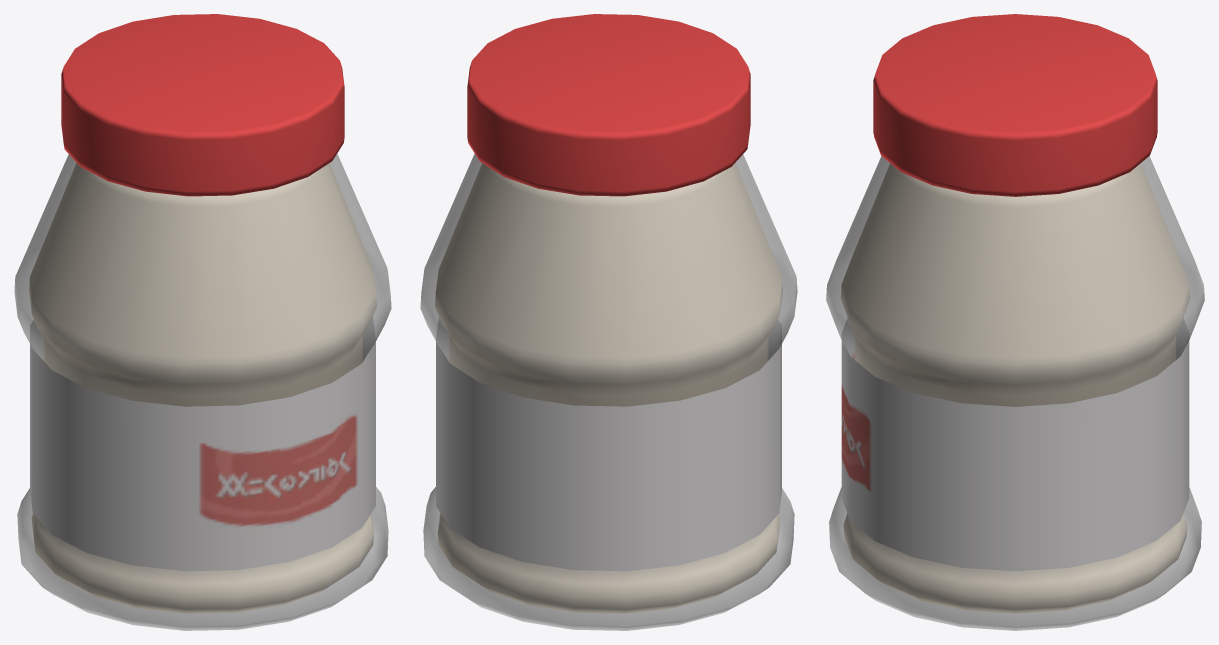
The model's file is pi_mayonnaise02.gltf.
The picture shows the model from 3 angles, left to right: view 1: azimuth 30°, elevation 25°; view 2: azimuth 150°, elevation 25°; view 3: azimuth 270°, elevation 25°; orthographic projection.
Visible parts, largest first — view 1: pi_mayonnaise02_bottle_outside_mesh_shape:pi_mayonnaise02_gl, pi_mayonnaise02_body_mesh_shape:pi_mayonnaise02_body, pi_mayonnaise02_bottle_label_mesh_shape:pi_mayonnaise02_lid, pi_mayonnaise02_lid01_mesh_shape:pi_mayonnaise02_lid; view 2: pi_mayonnaise02_bottle_outside_mesh_shape:pi_mayonnaise02_gl, pi_mayonnaise02_body_mesh_shape:pi_mayonnaise02_body, pi_mayonnaise02_bottle_label_mesh_shape:pi_mayonnaise02_lid, pi_mayonnaise02_lid01_mesh_shape:pi_mayonnaise02_lid; view 3: pi_mayonnaise02_bottle_outside_mesh_shape:pi_mayonnaise02_gl, pi_mayonnaise02_body_mesh_shape:pi_mayonnaise02_body, pi_mayonnaise02_bottle_label_mesh_shape:pi_mayonnaise02_lid, pi_mayonnaise02_lid01_mesh_shape:pi_mayonnaise02_lid.
Boxes of the visible parts, x1,y1,x2,y2 form: pi_mayonnaise02_bottle_outside_mesh_shape:pi_mayonnaise02_gl: (14,153,391,630); pi_mayonnaise02_body_mesh_shape:pi_mayonnaise02_body: (29,163,376,613); pi_mayonnaise02_bottle_label_mesh_shape:pi_mayonnaise02_lid: (30,317,375,571); pi_mayonnaise02_lid01_mesh_shape:pi_mayonnaise02_lid: (61,14,344,196); pi_mayonnaise02_bottle_outside_mesh_shape:pi_mayonnaise02_gl: (420,153,797,630); pi_mayonnaise02_body_mesh_shape:pi_mayonnaise02_body: (435,163,782,613); pi_mayonnaise02_bottle_label_mesh_shape:pi_mayonnaise02_lid: (436,317,781,571); pi_mayonnaise02_lid01_mesh_shape:pi_mayonnaise02_lid: (467,14,750,196); pi_mayonnaise02_bottle_outside_mesh_shape:pi_mayonnaise02_gl: (826,156,1204,630); pi_mayonnaise02_body_mesh_shape:pi_mayonnaise02_body: (840,163,1190,613); pi_mayonnaise02_bottle_label_mesh_shape:pi_mayonnaise02_lid: (841,318,1189,571); pi_mayonnaise02_lid01_mesh_shape:pi_mayonnaise02_lid: (873,14,1157,196).
Bounding box in the file's own units: 0.0697 × 0.0986 × 0.0697.
3 materials, 3 textured.
